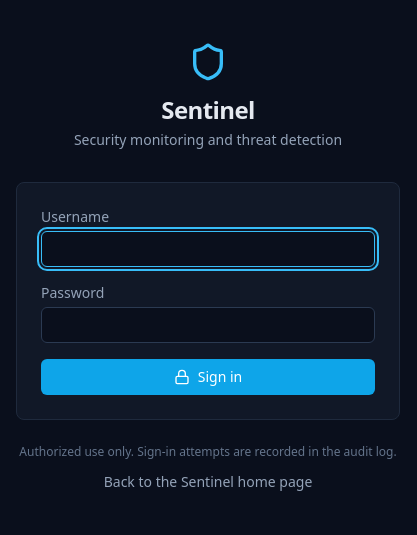
authentication › shows the login page when there is no session and validates input
Click the button "Sign in": (208, 377) top-left (41, 359), bottom-right (375, 395)
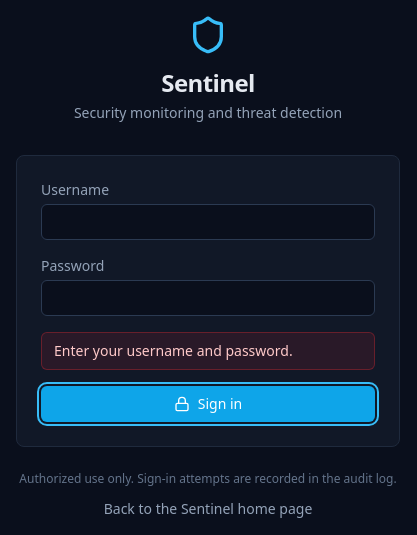
Now the message shows "Enter your username and password", box top-left (54, 341), bottom-right (293, 360)
